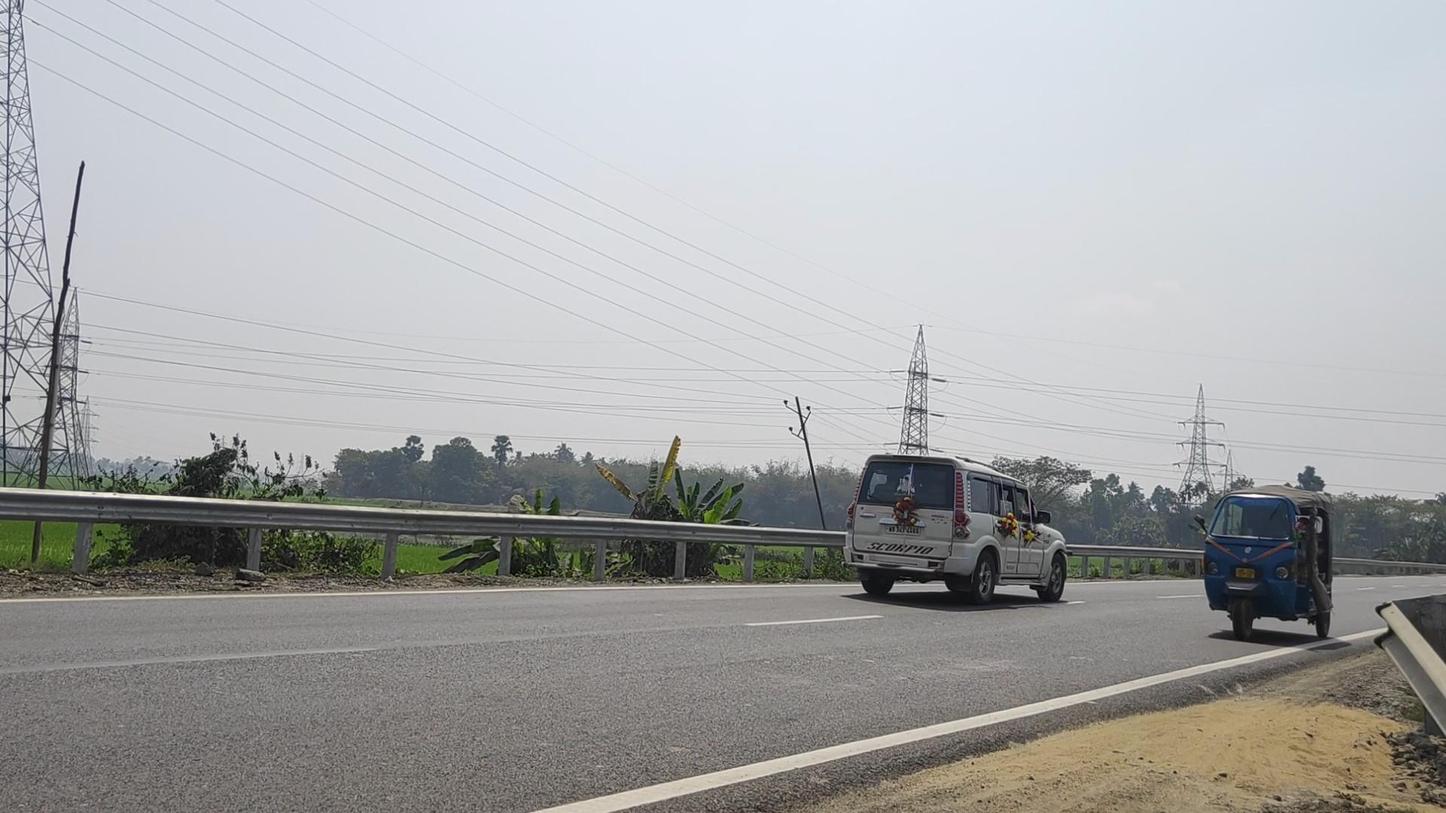Auto: (1194, 485, 1335, 641)
car: (841, 453, 1073, 606)
